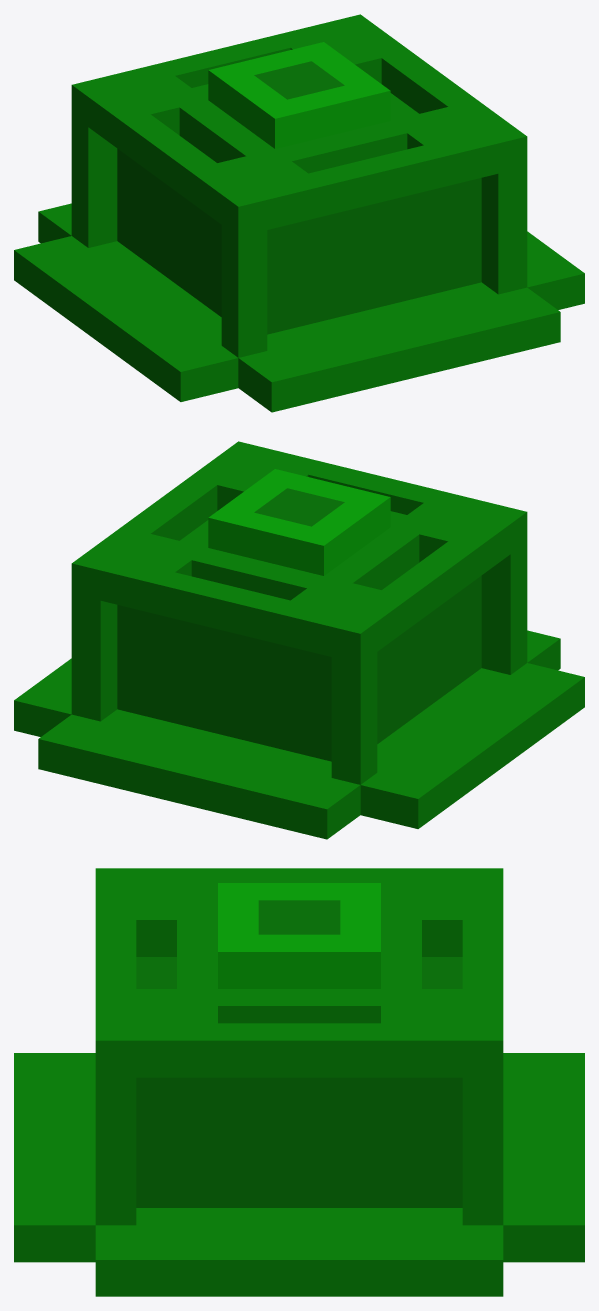
File: canon_tower-1.obj
3 views of the same model, one above another, from view 1: azimuth 30°, elevation 25°; view 2: azimuth 150°, elevation 25°; view 3: azimuth 270°, elevation 25° (orthographic). The views are drawn at different scales.
Size of the model in its own units: 1.4 by 0.7 by 1.4.
Materials: 1 (1 with a texture image).
